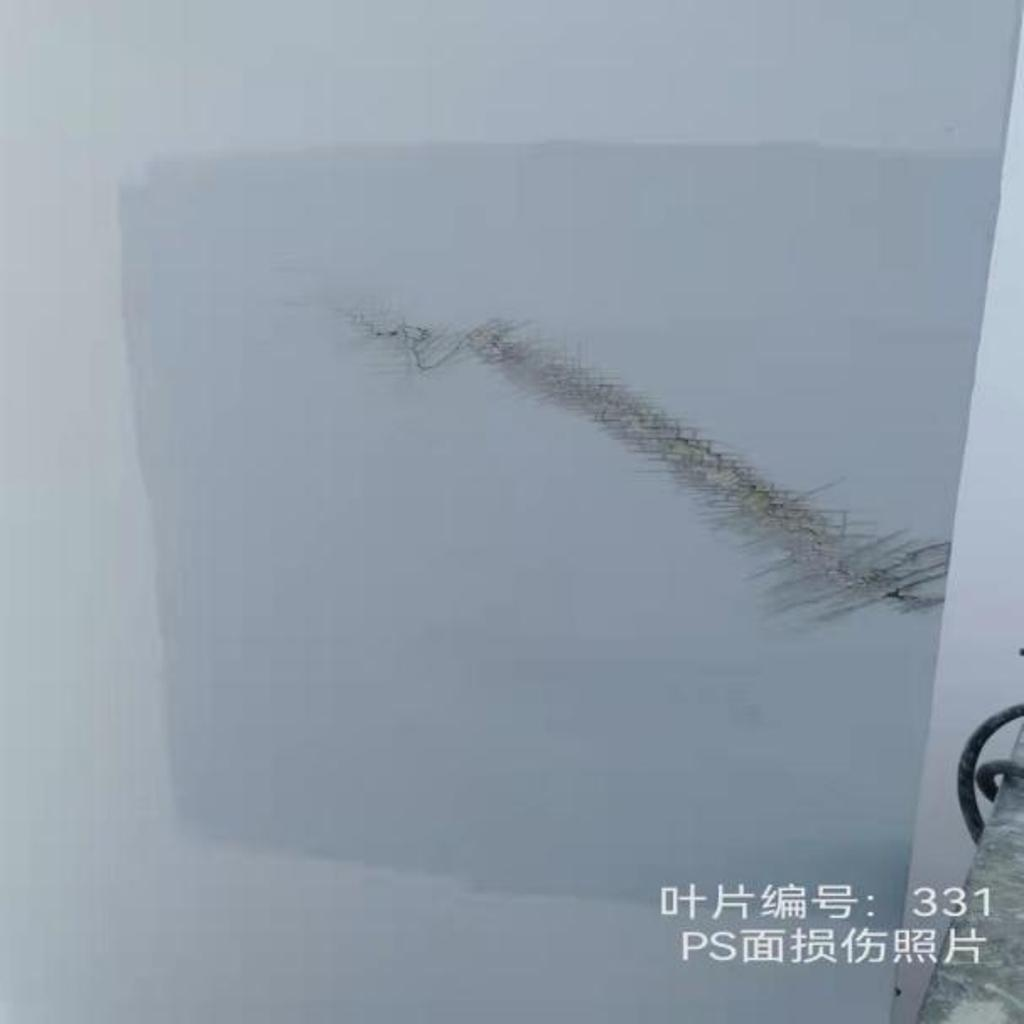hide_craze: (463, 327, 919, 609)
